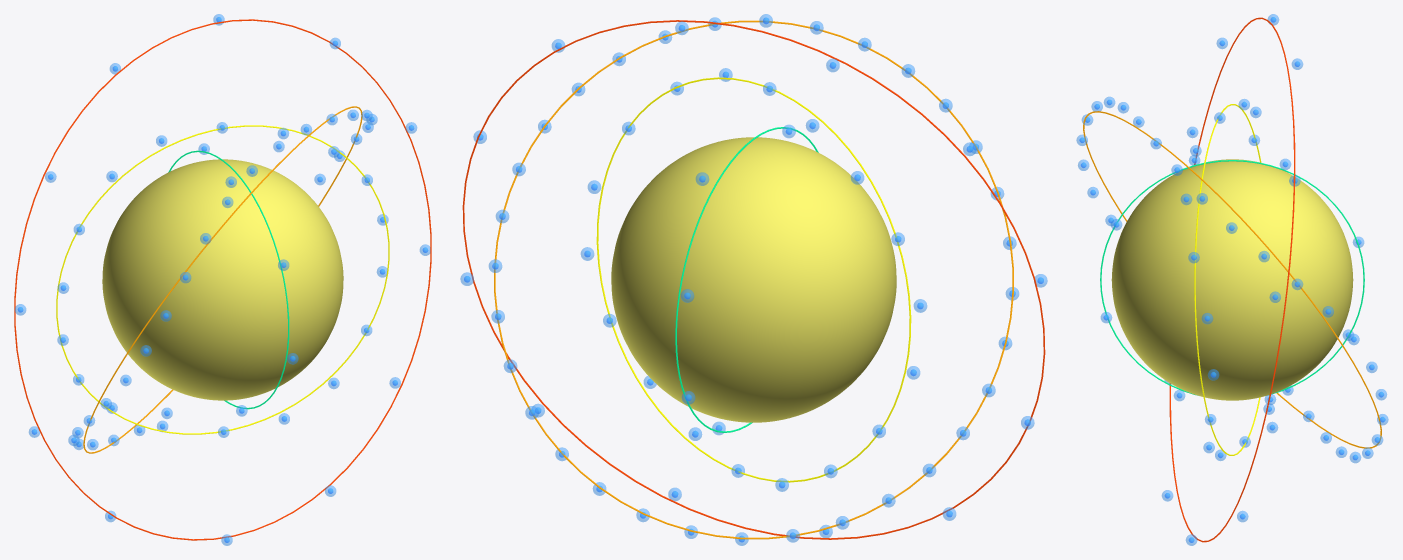
3 views of the same model, side by side, from view 1: azimuth 30°, elevation 25°; view 2: azimuth 150°, elevation 25°; view 3: azimuth 270°, elevation 25° (orthographic). The views are drawn at different scales.
Parts seen in each view (by area): view 1: Hf, object 126, object 24, object 61, object 7; view 2: Hf, object 126, object 61, object 24, object 7; view 3: Hf, object 126, object 7, object 61, object 24.
Boxes of the visible parts, <box> form: Hf: <box>102,159,343,400</box>; object 126: <box>14,19,431,540</box>; object 24: <box>56,125,389,434</box>; object 61: <box>83,106,362,453</box>; object 7: <box>168,150,289,409</box>; Hf: <box>611,137,896,422</box>; object 126: <box>462,20,1045,539</box>; object 61: <box>494,20,1013,539</box>; object 24: <box>596,77,911,482</box>; object 7: <box>675,127,818,432</box>; Hf: <box>1111,159,1353,400</box>; object 126: <box>1169,17,1295,542</box>; object 7: <box>1100,160,1364,395</box>; object 61: <box>1083,111,1381,448</box>; object 24: <box>1194,104,1261,455</box>.
Bounding box in the file's own units: 7.18 × 7.09 × 4.27.
